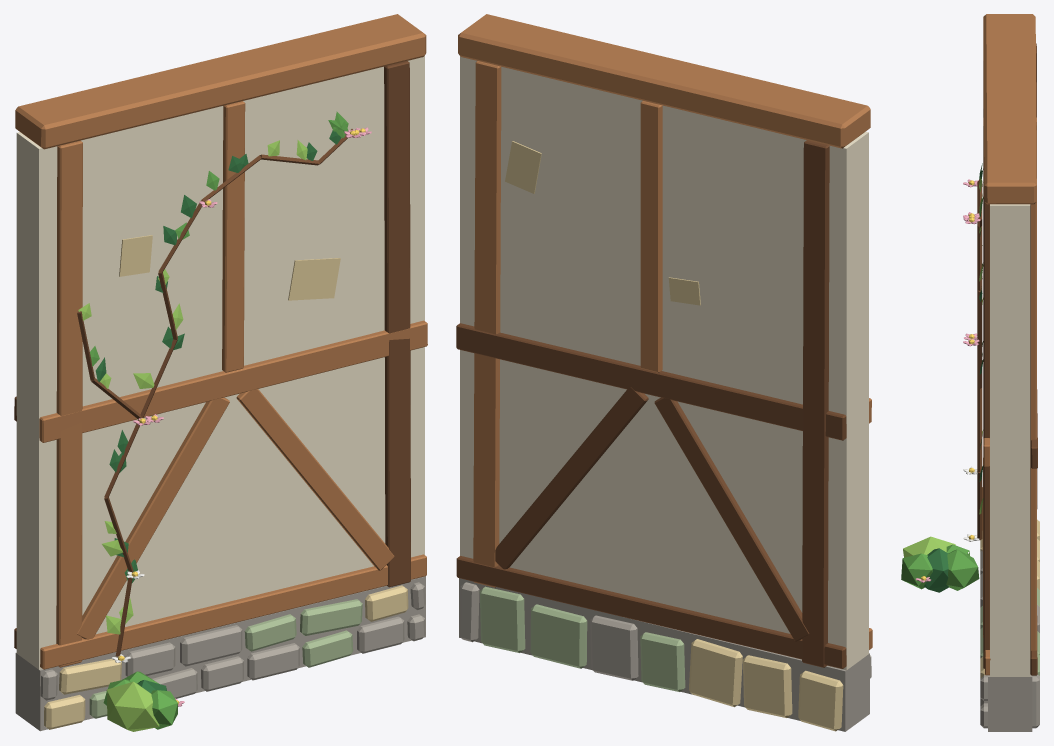
The model's file is wall_vines.glb.
3 views of the same model, side by side, from view 1: azimuth 30°, elevation 25°; view 2: azimuth 150°, elevation 25°; view 3: azimuth 270°, elevation 25° (orthographic). The views are drawn at different scales.
Parts seen in each view (by area): view 1: Wall Vines; view 2: Wall Vines; view 3: Wall Vines.
Boxes of the visible parts, box(x1,y1,x2,y2) form: Wall Vines: box(14, 14, 427, 731); Wall Vines: box(456, 14, 872, 731); Wall Vines: box(901, 14, 1039, 731).
Size of the model in its own units: 2 by 3 by 0.6879.
1 material, 1 textured.
